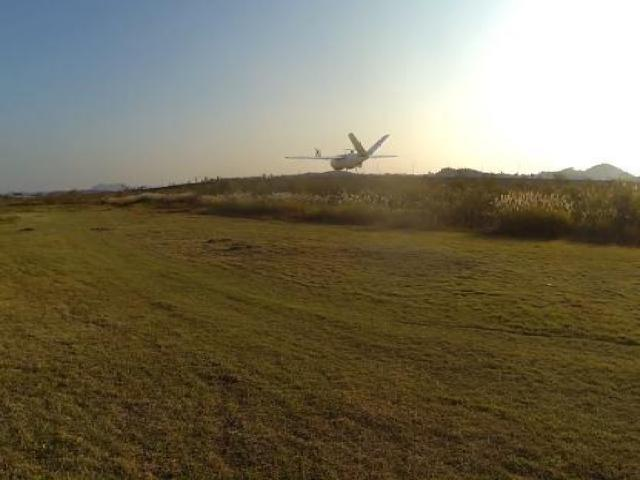uav: (281, 118, 402, 186)
